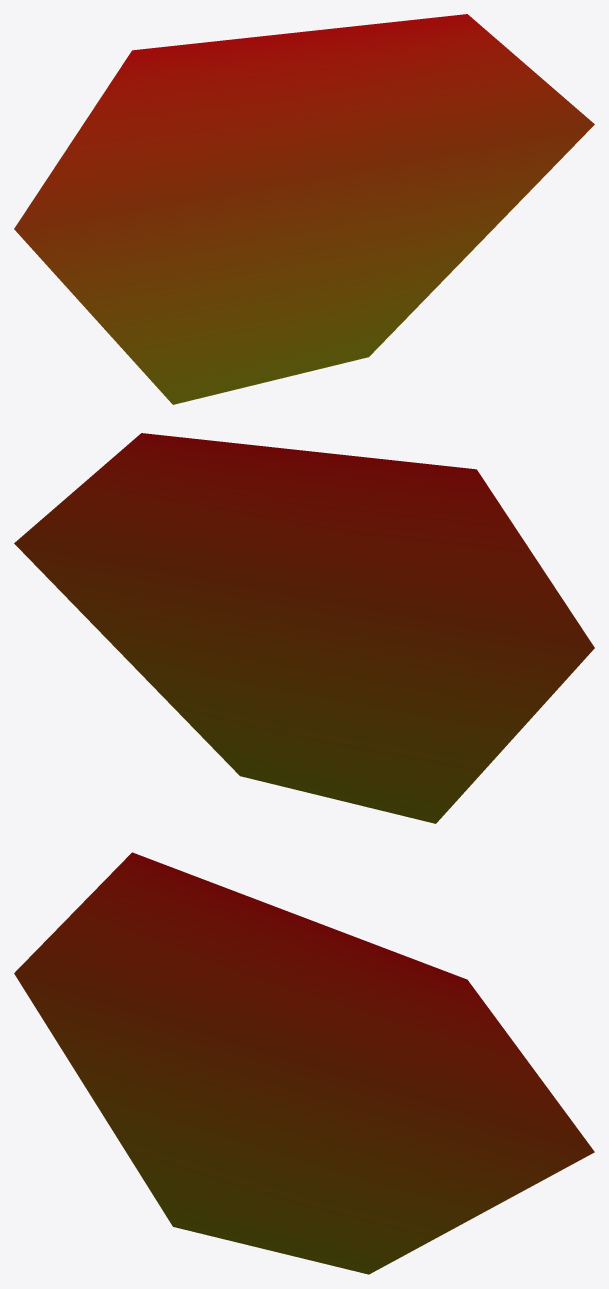
File: Var7_LOD3.fbx
3 views of the same model, one above another, from view 1: azimuth 30°, elevation 25°; view 2: azimuth 150°, elevation 25°; view 3: azimuth 330°, elevation 25° (orthographic).
Visible parts, largest first — view 1: _34c3_Var7_LOD3; view 2: _34c3_Var7_LOD3; view 3: _34c3_Var7_LOD3.
Part boxes in pixels (x1=…): _34c3_Var7_LOD3: x1=14, y1=14, x2=594, y2=404; _34c3_Var7_LOD3: x1=14, y1=433, x2=594, y2=823; _34c3_Var7_LOD3: x1=14, y1=852, x2=594, y2=1274.
Size of the model in its own units: 103 by 61.63 by 1.36e-05.
